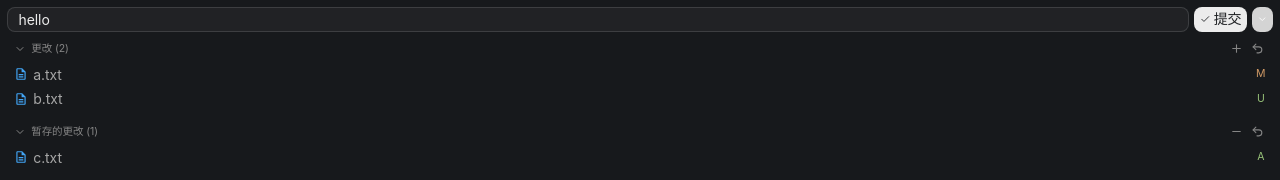
Test: ChangesSection › shows progress on unstage-all until the operation settles
Click the button with test id "unstage-all": (1236, 132) x1=1228 y1=123 x2=1244 y2=140
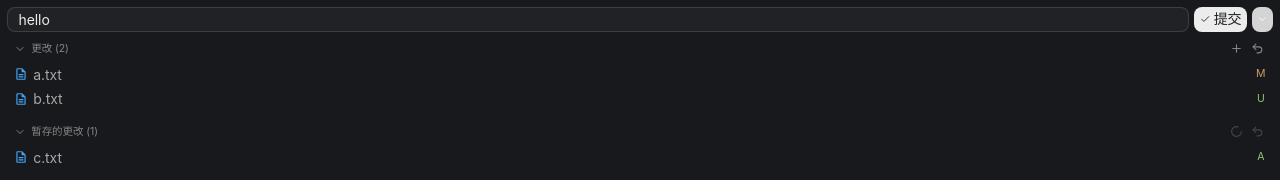
Check: the icon with class "animate-spin" is shown, box x1=1230 y1=125 x2=1242 y2=138
Check: the button with test id "unstage-all" is disabled
Click the button with test id "unstage-all": (1236, 132) x1=1228 y1=123 x2=1244 y2=140
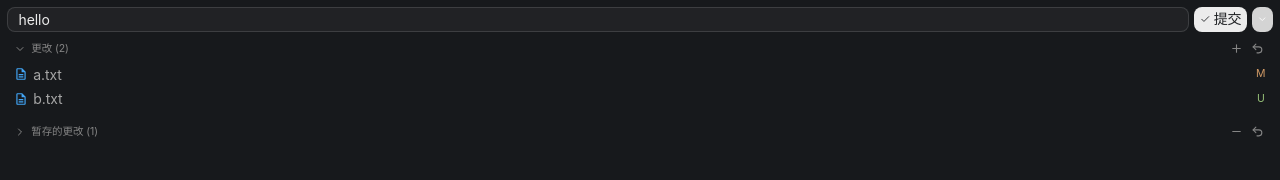
Check: the icon with class "animate-spin" is gone
Check: the button with test id "unstage-all" is enabled, box x1=1228 y1=123 x2=1244 y2=140
